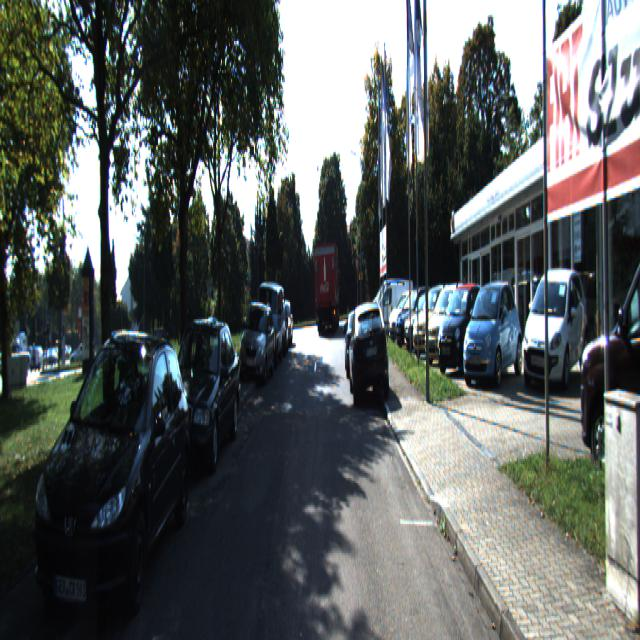Car: (26, 324, 194, 638), (578, 202, 640, 487), (155, 312, 242, 483), (520, 257, 590, 393), (461, 278, 525, 387), (436, 281, 489, 378), (348, 298, 391, 409), (424, 287, 476, 370), (411, 281, 462, 359), (238, 299, 276, 387), (254, 279, 286, 368), (313, 242, 341, 336), (371, 282, 409, 339), (344, 310, 373, 381)
